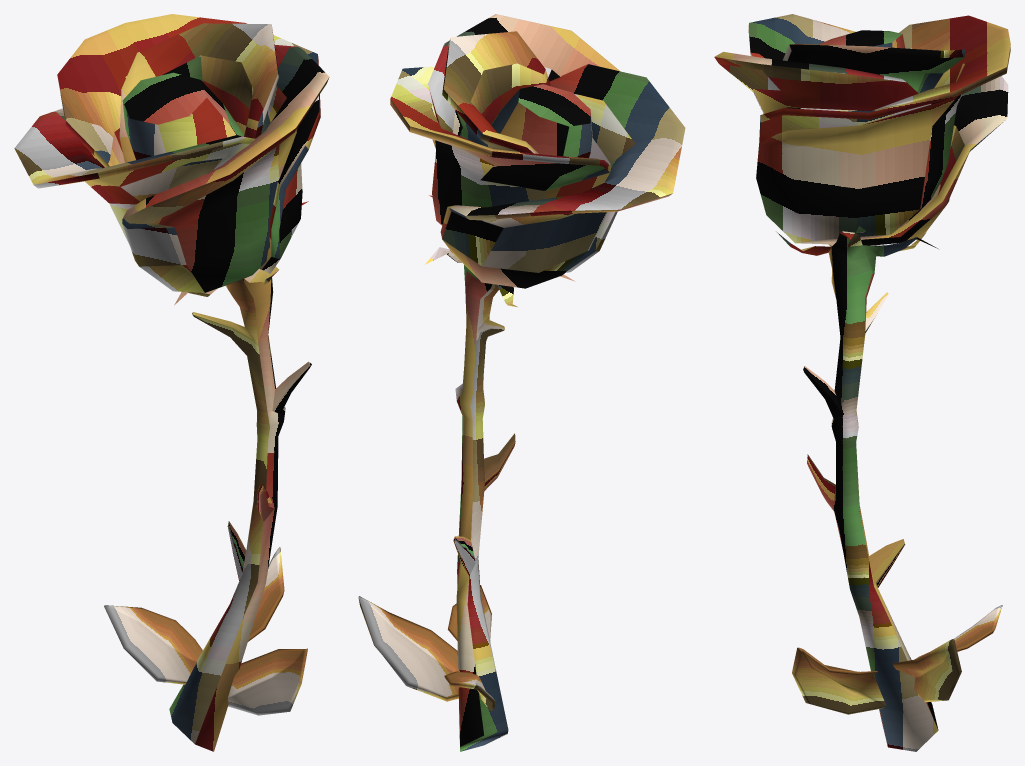
File: Prop_Rose.glb
3 renders of one model, left to right at view 1: azimuth 30°, elevation 25°; view 2: azimuth 150°, elevation 25°; view 3: azimuth 270°, elevation 25°, orthographic. The views are drawn at different scales.
Visible parts, largest first — view 1: Prop_Rose; view 2: Prop_Rose; view 3: Prop_Rose.
Part boxes in pixels (box(x1,y1,x2,y2)): Prop_Rose: box(14, 14, 329, 751); Prop_Rose: box(358, 14, 685, 751); Prop_Rose: box(714, 14, 1010, 751).
Bounding box in the file's own units: 1.46 × 3.51 × 1.3.
Materials: 1 (1 with a texture image).
